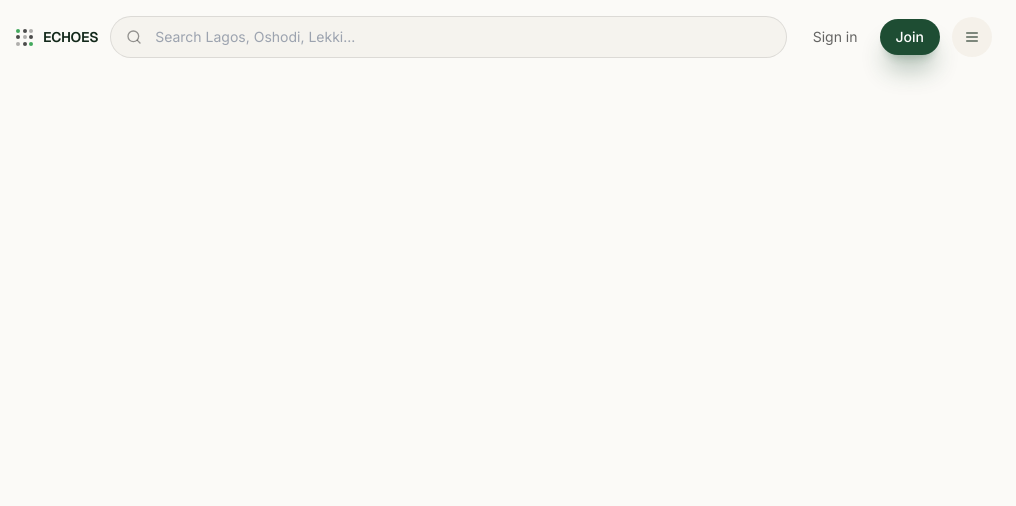
Test: where the rail belongs › is absent from the landing page, where the header popup menu takes over
The image size is (1016, 506).
Click the button named "open menu" at (972, 37), box [952,17,992,57]
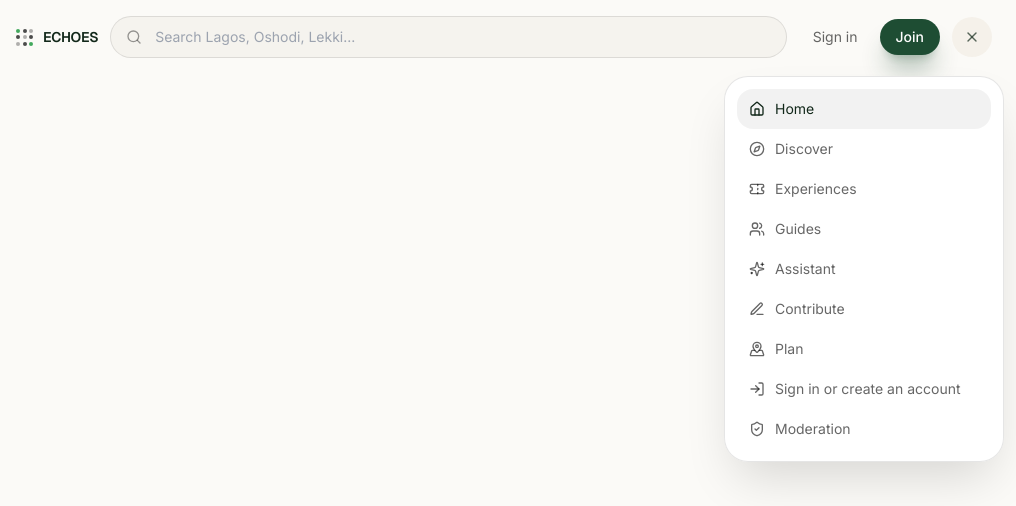
Now the link "Discover" is shown, box [749,140,833,157]
Now the link "Experiences" is shown, box [749,180,857,197]
Now the link "Guides" is shown, box [749,220,821,237]
